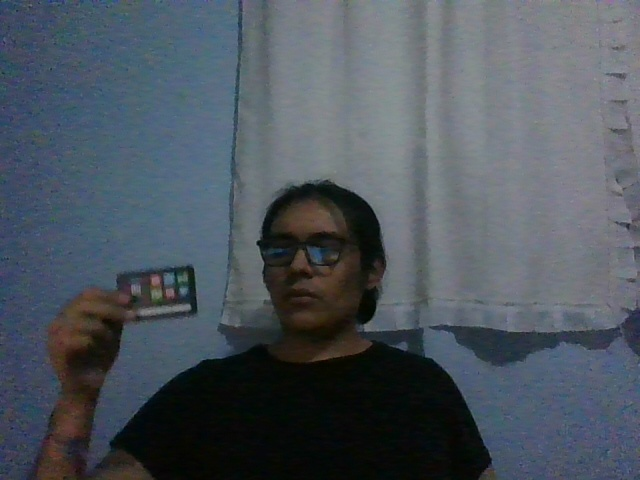tarjeta: (114, 264, 198, 322)
